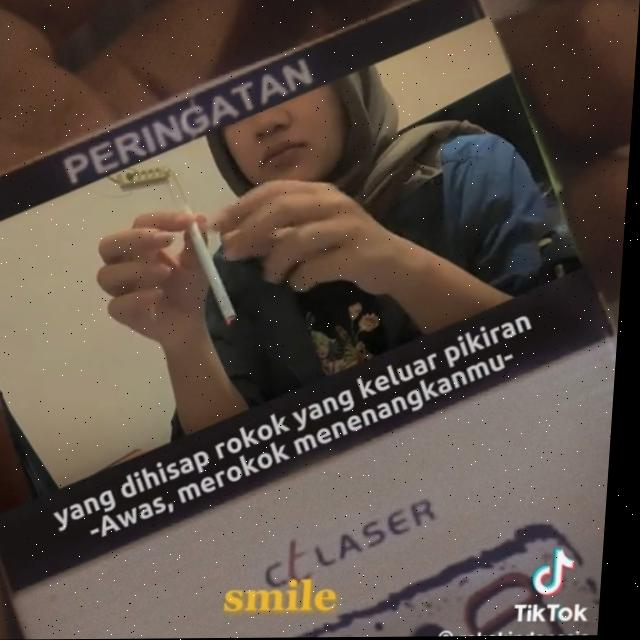cigarette: (186, 222, 247, 325)
